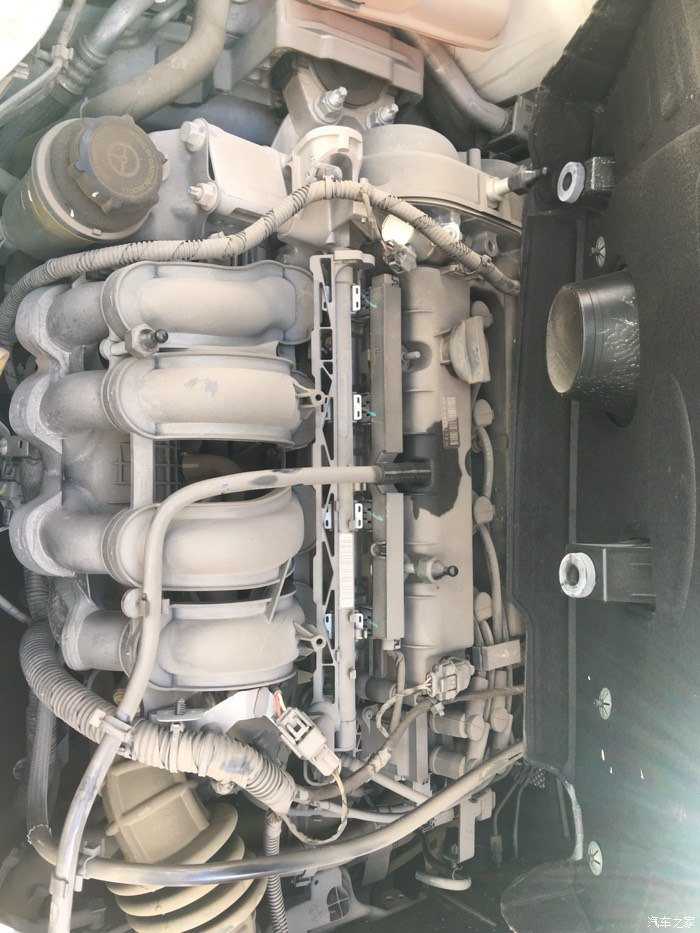oil: (382, 419, 491, 519)
